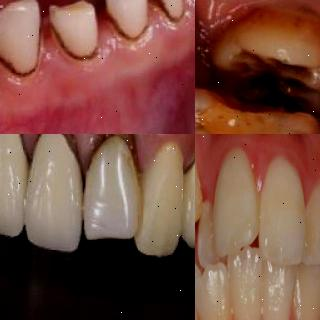Gum Swelling: (0, 134, 195, 161)
cavities: (210, 46, 312, 112)
maligned: (200, 194, 237, 260), (195, 271, 240, 320), (195, 145, 213, 235)
plaque: (297, 188, 320, 266), (243, 180, 275, 234)
stains: (220, 0, 320, 60), (106, 0, 152, 36), (54, 29, 96, 59), (0, 45, 38, 77), (145, 0, 185, 22)
